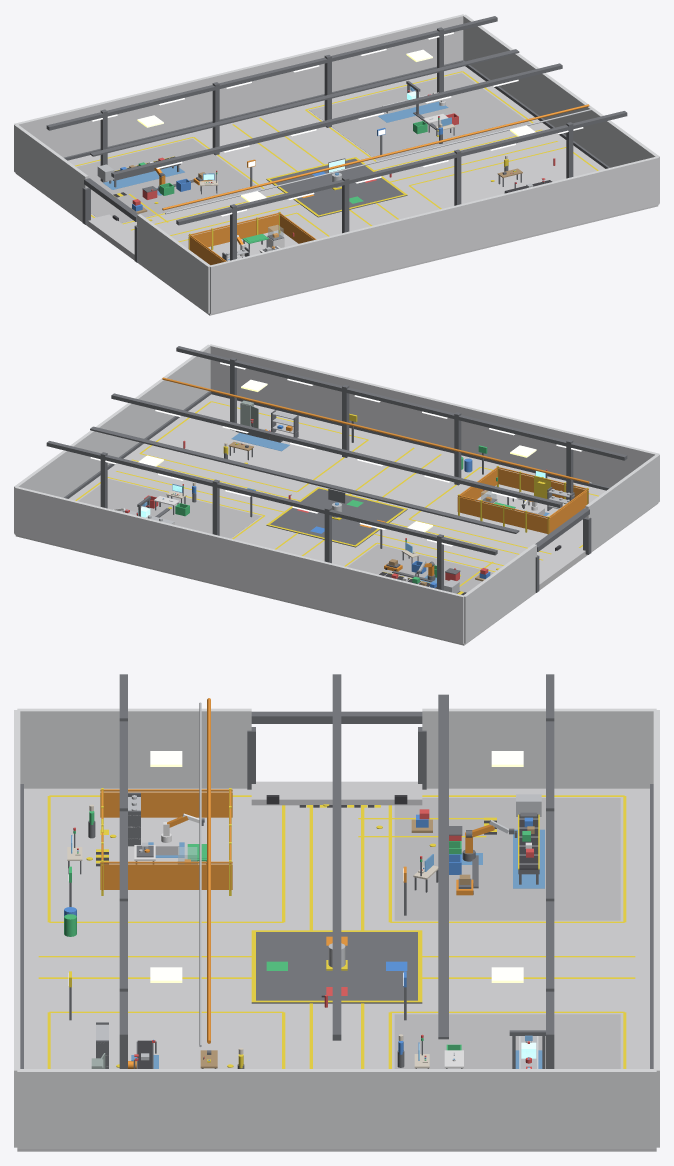
The model's file is RoboTeachVR.glb.
3 views of the same model, one above another, from view 1: azimuth 30°, elevation 25°; view 2: azimuth 150°, elevation 25°; view 3: azimuth 270°, elevation 25° (orthographic). The views are drawn at different scales.
Parts seen in each view (by area): view 1: FloorSlab, Wall_South, Wall_North, FloorTint_Z2, Wall_East, FloorTint_Z1, Wall_West_B, Wall_West_A, PlazaBase, RoofBeam_0, RoofBeam_-10, RoofBeam_10 (+13 smaller); view 2: FloorSlab, Wall_North, Wall_South, Wall_East, Wall_West_A, Wall_West_B, FloorTint_Z2, PlazaBase, RoofBeam_0, RoofBeam_-10, RoofBeam_10, CableTray_Main (+12 smaller); view 3: FloorSlab, Wall_East, FloorTint_Z1, Wall_West_B, Wall_West_A, PlazaBase, FloorTint_Z2, CableTray_Main, DockPlatform, RoofBeam_0, RoofBeam_-10, RoofBeam_10 (+14 smaller).
Part boxes in pixels (x1,y1,x2,y2): FloorSlab: [15, 66, 658, 315]; Wall_South: [210, 156, 659, 313]; Wall_North: [14, 14, 464, 157]; FloorTint_Z2: [309, 73, 529, 160]; Wall_East: [463, 14, 659, 203]; FloorTint_Z1: [76, 139, 260, 222]; Wall_West_B: [137, 214, 210, 313]; Wall_West_A: [14, 124, 88, 221]; PlazaBase: [266, 158, 407, 217]; RoofBeam_0: [111, 63, 562, 177]; RoofBeam_-10: [46, 16, 497, 130]; RoofBeam_10: [176, 111, 627, 225]; FloorSlab: [15, 394, 658, 645]; Wall_North: [14, 486, 463, 643]; Wall_South: [209, 344, 659, 487]; Wall_East: [14, 344, 210, 533]; Wall_West_A: [463, 544, 536, 643]; Wall_West_B: [585, 454, 659, 551]; FloorTint_Z2: [78, 479, 260, 538]; PlazaBase: [266, 488, 407, 547]; RoofBeam_0: [111, 393, 562, 507]; RoofBeam_-10: [46, 441, 497, 555]; RoofBeam_10: [176, 346, 627, 460]; CableTray_Main: [90, 426, 519, 533]; FloorSlab: [17, 788, 656, 1151]; Wall_East: [17, 1069, 656, 1148]; FloorTint_Z1: [394, 798, 620, 920]; Wall_West_B: [17, 708, 251, 788]; Wall_West_A: [422, 708, 656, 788]; PlazaBase: [251, 932, 422, 1003]; FloorTint_Z2: [394, 1014, 620, 1068]; CableTray_Main: [438, 694, 448, 1039]; DockPlatform: [251, 781, 422, 805]; RoofBeam_0: [332, 674, 341, 1040]; RoofBeam_-10: [546, 674, 554, 1040]; RoofBeam_10: [119, 674, 127, 1040].
Bounding box in the file's own units: 40.4 × 6.2 × 30.3.
